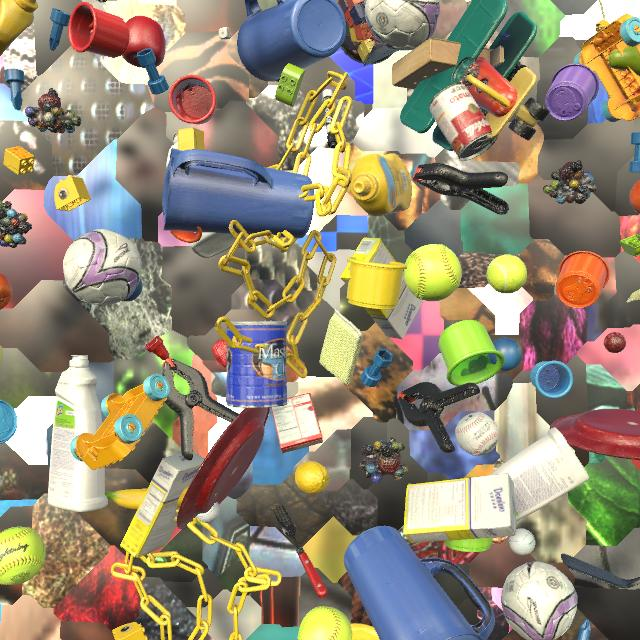ycb_002_master_chef_can: (226, 321, 287, 408)
ycb_004_sugar_box: (120, 452, 204, 558), (340, 238, 423, 339), (403, 473, 516, 543)
ycb_005_tomato_soup_can: (429, 83, 498, 161)
ycb_006_mustard_bottle: (350, 153, 412, 217), (0, 0, 38, 56), (351, 623, 380, 640)
ycb_009_gelatin_box: (271, 393, 323, 454)
ycb_011_banana: (105, 486, 217, 510)
ycb_012_strawberry: (212, 338, 227, 367)
ycb_013_apple: (122, 16, 166, 68)
ycb_014_lemon: (295, 461, 329, 494)
ycb_016_pear: (606, 46, 640, 77)
ycb_017_orange: (0, 272, 13, 310), (629, 180, 640, 214)
